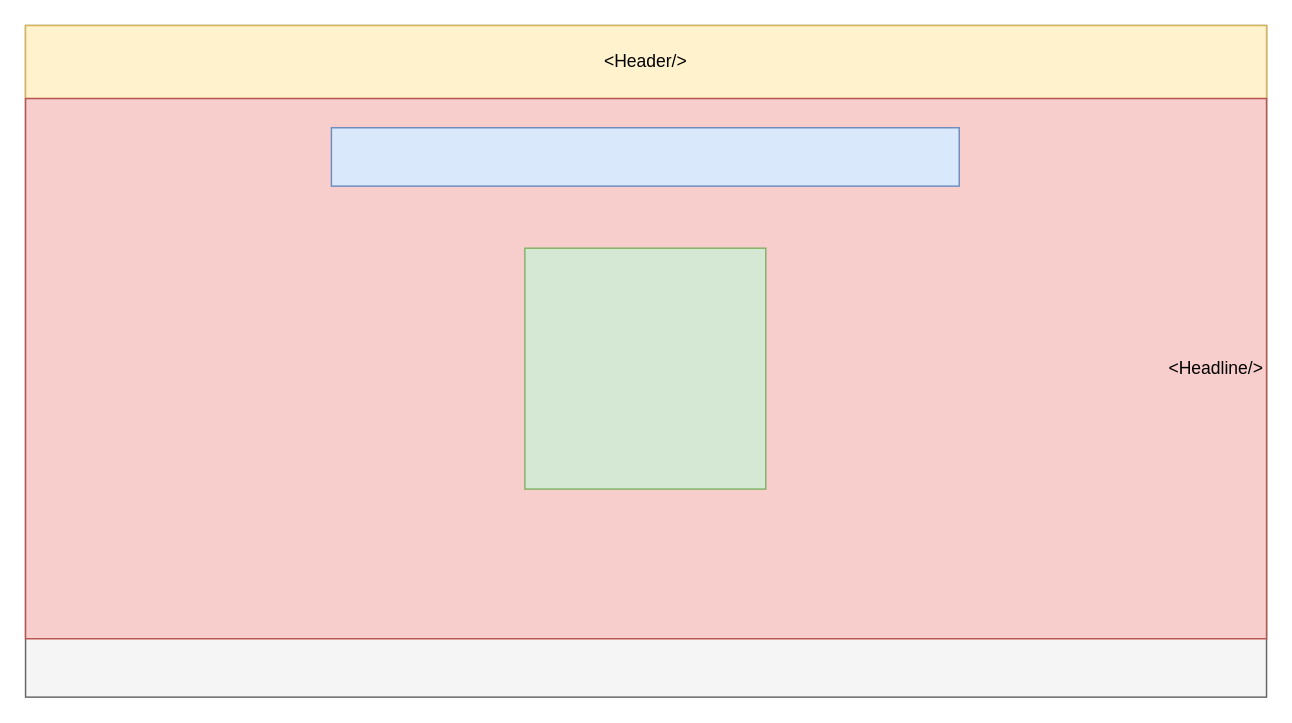
Image size: 1292x723. Some labels were removed from this diagram. The shapes that lost their labels are listed below. From the top down, each one's centre as x and y in pixels, then its label:
At [644,156]: "<Title/> [Title + Subtitle]".
At [644,368]: "<Avatar/>".
